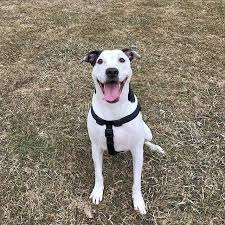dog: (95, 54, 129, 102)
